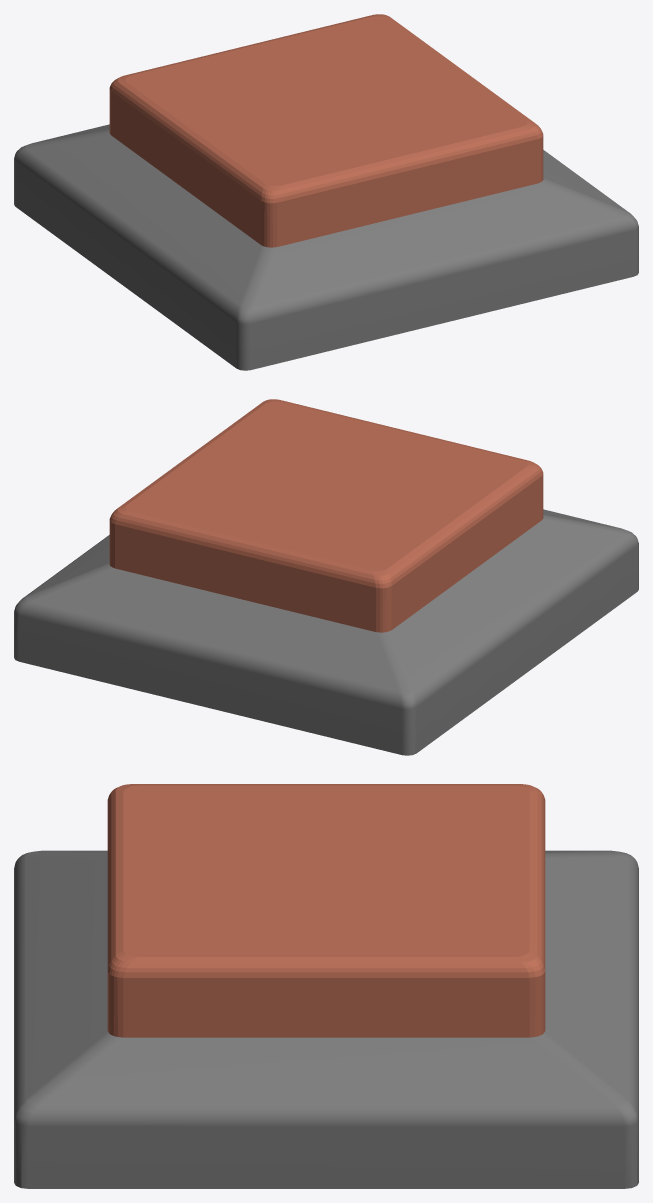
File: Bouton_Global.fbx
3 views of the same model, one above another, from view 1: azimuth 30°, elevation 25°; view 2: azimuth 150°, elevation 25°; view 3: azimuth 270°, elevation 25° (orthographic). The views are drawn at different scales.
Parts seen in each view (by area): view 1: Socle_1, Bouton_1; view 2: Socle_1, Bouton_1; view 3: Socle_1, Bouton_1.
Boxes of the visible parts, x1=… form: Socle_1: x1=14, y1=124, x2=638, y2=370; Bouton_1: x1=109, y1=14, x2=543, y2=247; Socle_1: x1=14, y1=509, x2=638, y2=755; Bouton_1: x1=109, y1=399, x2=543, y2=632; Socle_1: x1=14, y1=850, x2=638, y2=1188; Bouton_1: x1=107, y1=784, x2=545, y2=1037.
Size of the model in its own units: 14.53 by 4.76 by 14.53.
